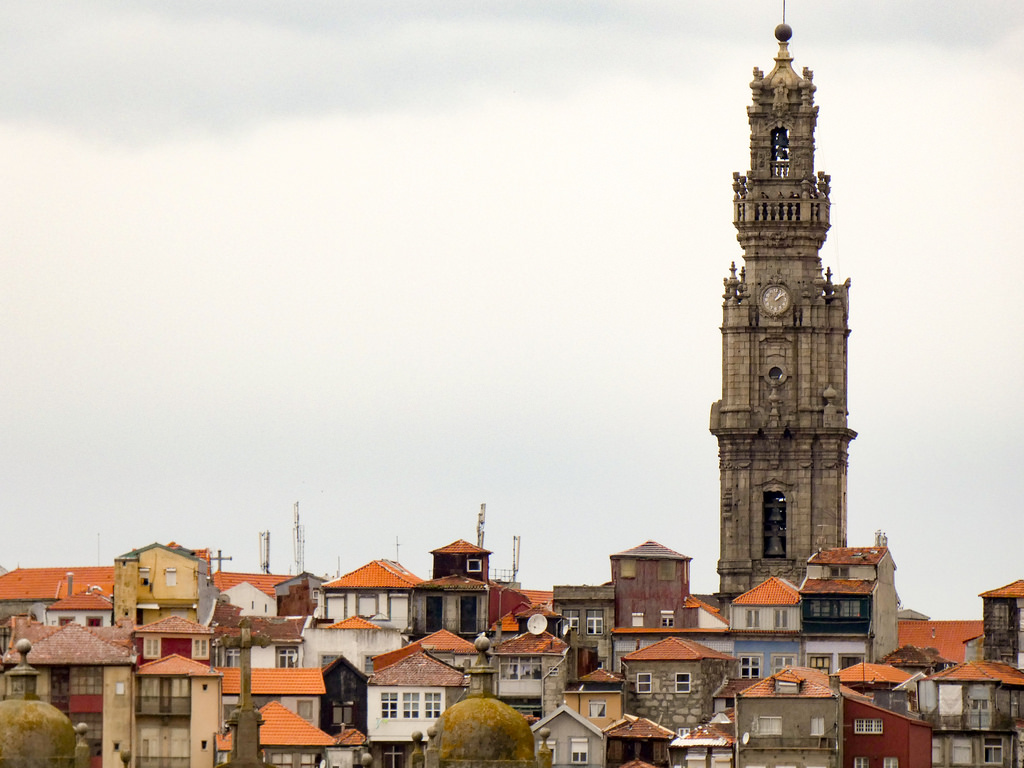clerigos: (711, 0, 858, 621)
